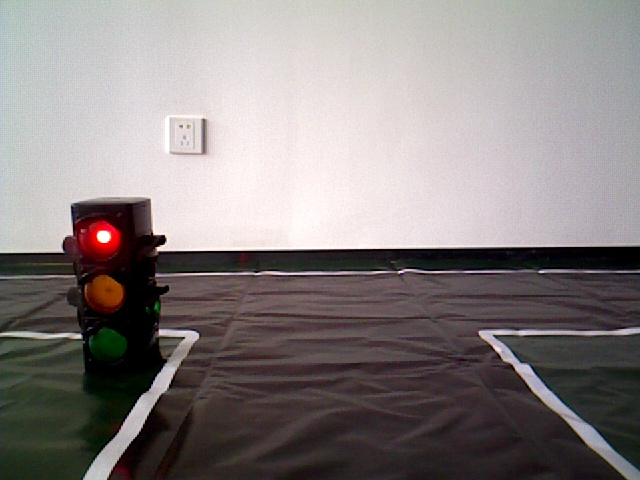red: (74, 204, 148, 378)
